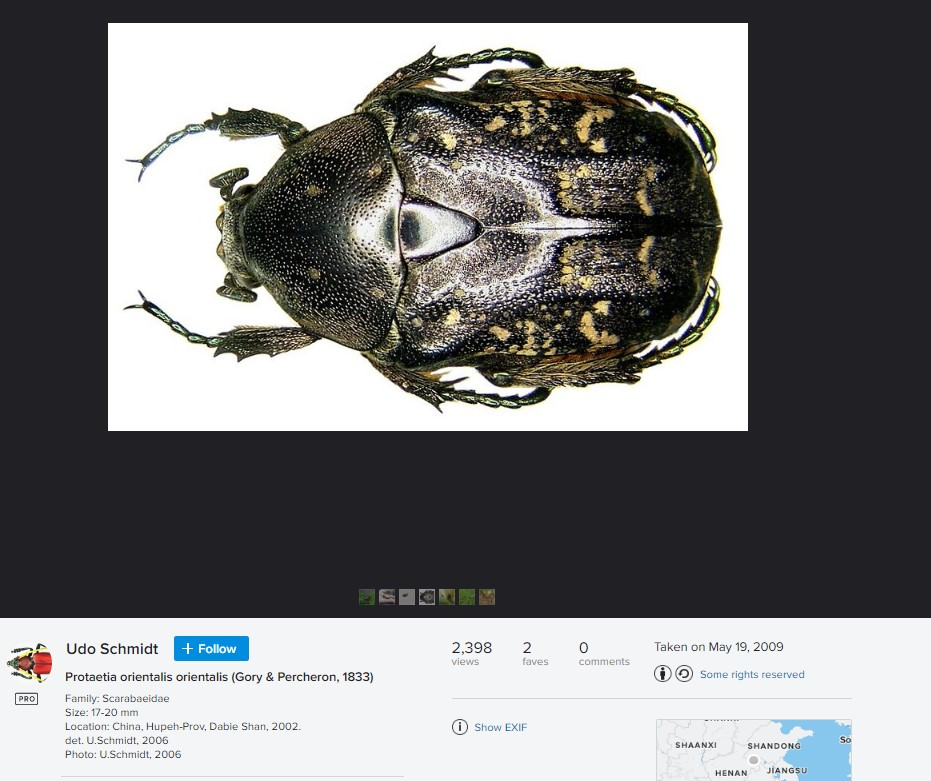Protaetia _orientalis: (130, 38, 726, 412)
